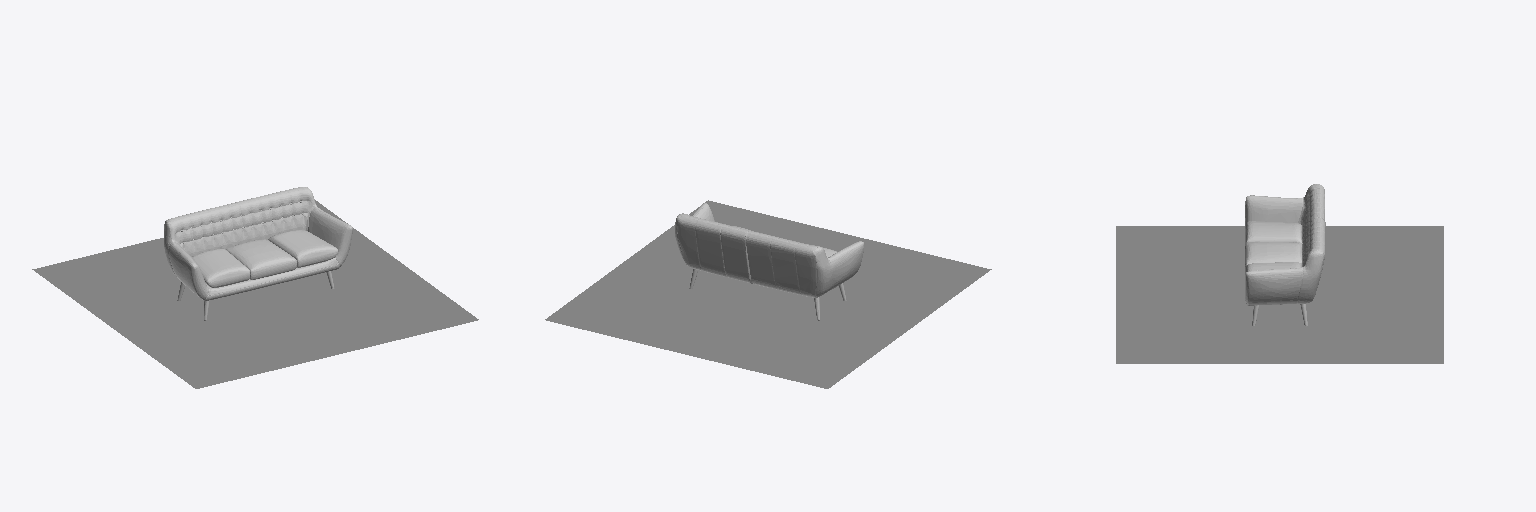
Rendered from LGLY5819.obj.
3 renders of one model, left to right at view 1: azimuth 30°, elevation 25°; view 2: azimuth 150°, elevation 25°; view 3: azimuth 270°, elevation 25°, orthographic.
Visible parts, largest first — view 1: shadow_plane_v6, not_clear_obj_1_v6; view 2: shadow_plane_v6, not_clear_obj_1_v6; view 3: shadow_plane_v6, not_clear_obj_1_v6.
Boxes of the visible parts, box(x1,y1,x2,y2) form: shadow_plane_v6: box(32, 200, 478, 388); not_clear_obj_1_v6: box(164, 187, 352, 300); shadow_plane_v6: box(545, 200, 991, 388); not_clear_obj_1_v6: box(675, 203, 863, 297); shadow_plane_v6: box(1116, 226, 1443, 363); not_clear_obj_1_v6: box(1245, 184, 1325, 305).
Bounding box in the file's own units: 320 × 83.81 × 320.